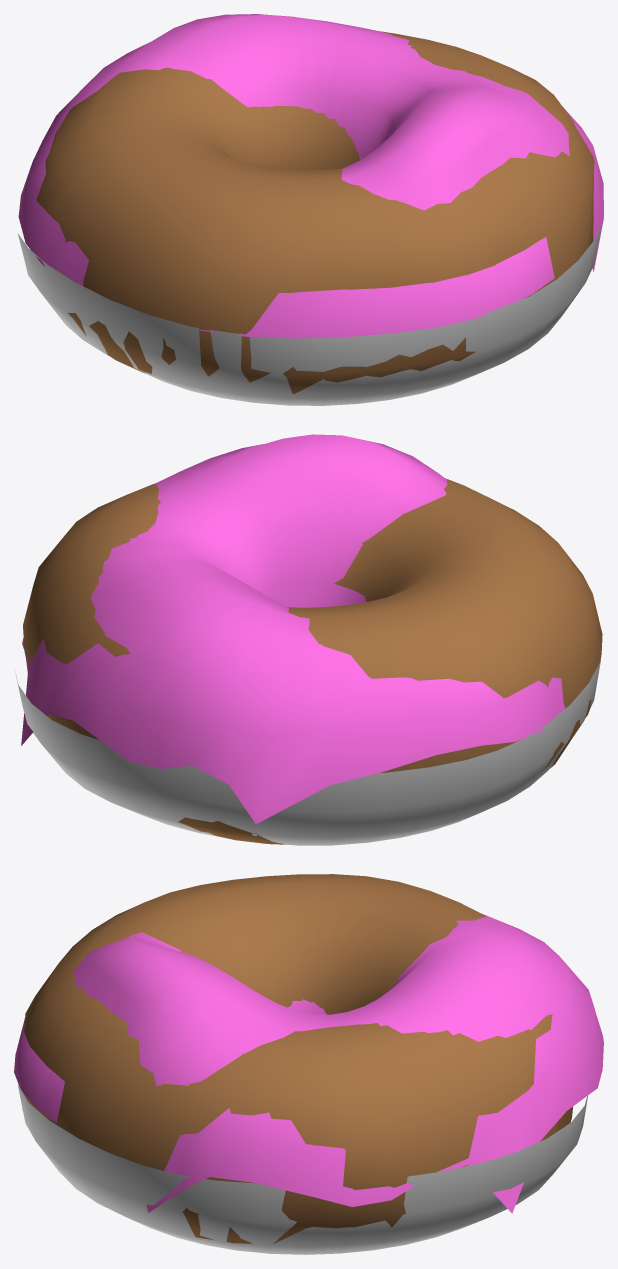
File: donut.glb
The picture shows the model from 3 angles, top to bottom: view 1: azimuth 30°, elevation 25°; view 2: azimuth 150°, elevation 25°; view 3: azimuth 270°, elevation 25°; orthographic projection.
Visible parts, largest first — view 1: Torus.001, Torus.003, Torus.002; view 2: Torus.003, Torus.001, Torus.002; view 3: Torus.001, Torus.003, Torus.002.
Part boxes in pixels (bbox=[...]): Torus.001: bbox=[36, 31, 594, 394]; Torus.003: bbox=[18, 14, 603, 338]; Torus.002: bbox=[18, 223, 602, 405]; Torus.003: bbox=[21, 434, 565, 823]; Torus.001: bbox=[23, 478, 602, 844]; Torus.002: bbox=[14, 661, 600, 845]; Torus.001: bbox=[22, 874, 572, 1244]; Torus.003: bbox=[14, 912, 603, 1213]; Torus.002: bbox=[17, 1084, 587, 1254].
Size of what is drawn, in the model's own units: 1.01 by 0.4709 by 1.01.
